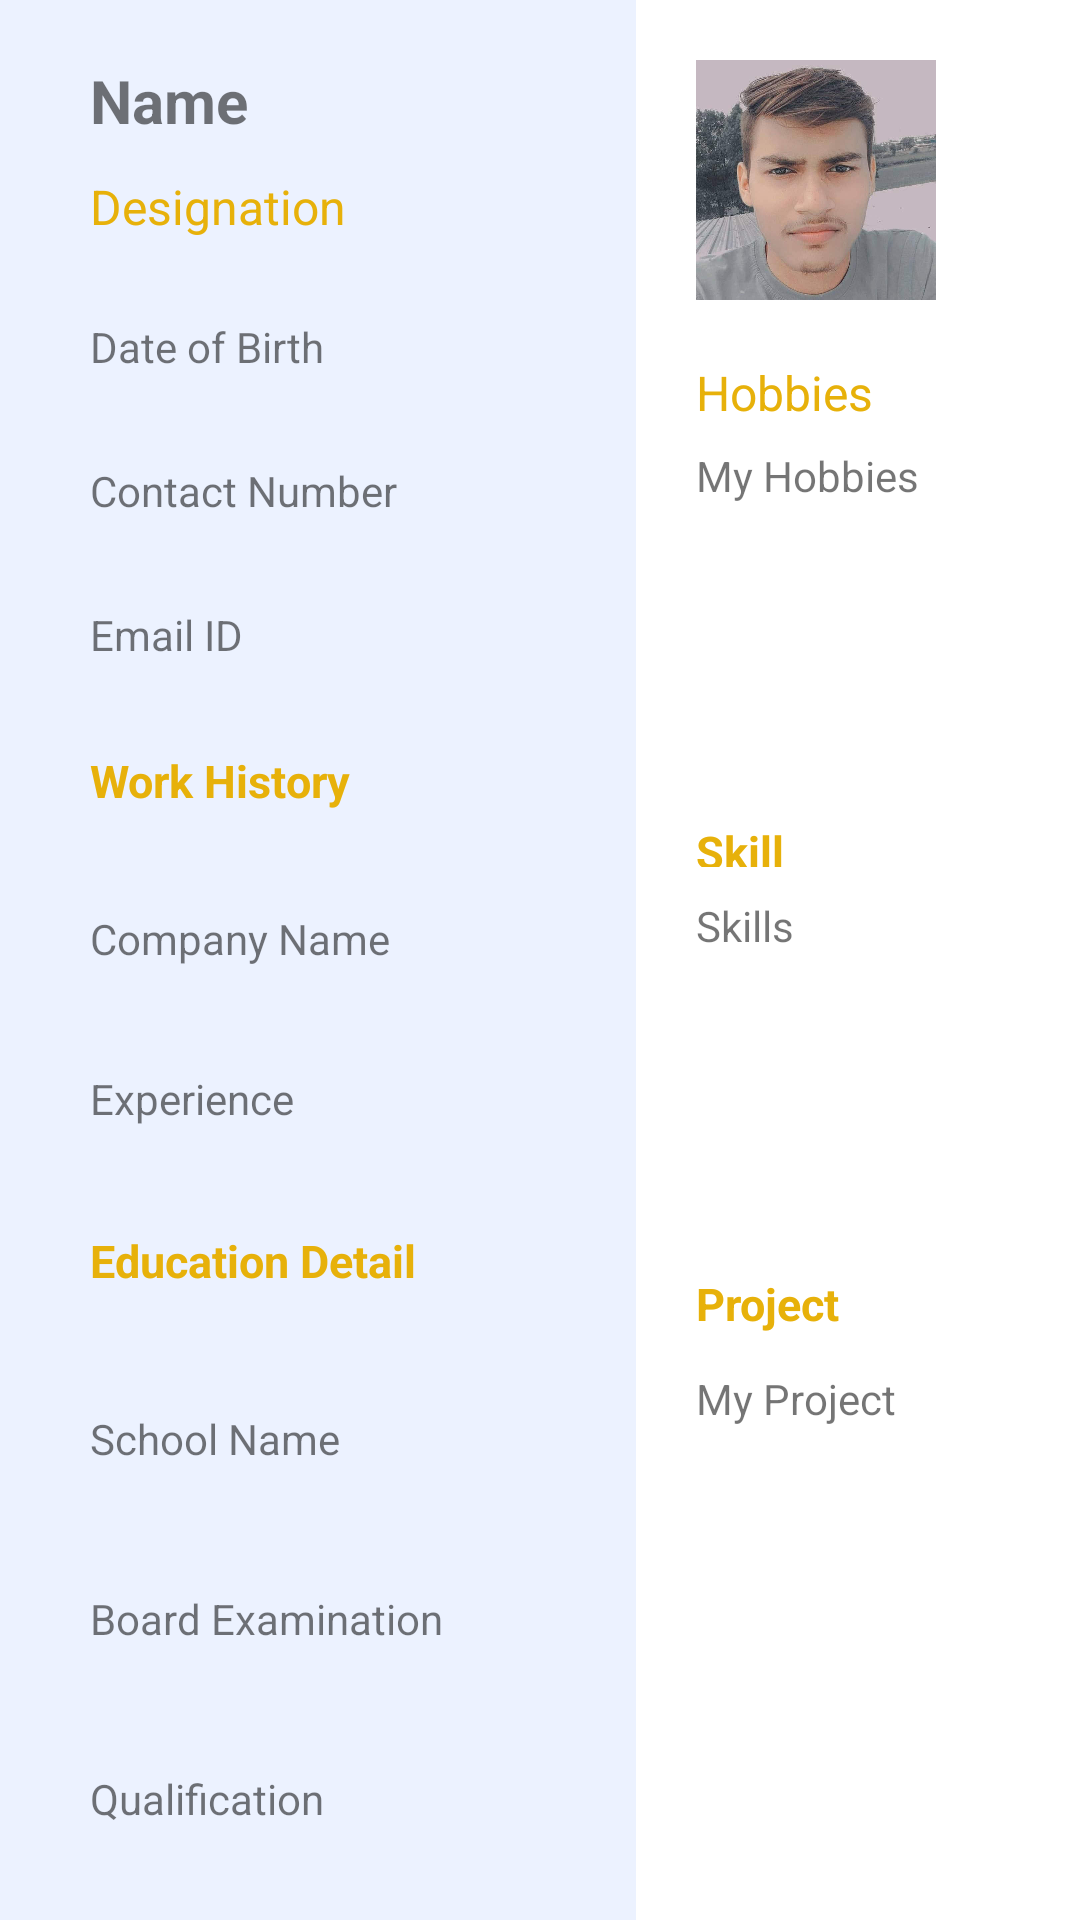

Where icons sit on this 1080w x 1920h app screen, as (x1=x1, y1=y1, x2=x2, y2=y2):
myimg: (x1=696, y1=60, x2=936, y2=300)
